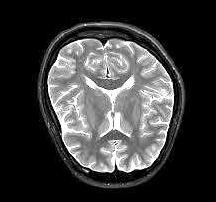Normal_Brain: (33, 1, 211, 202)
